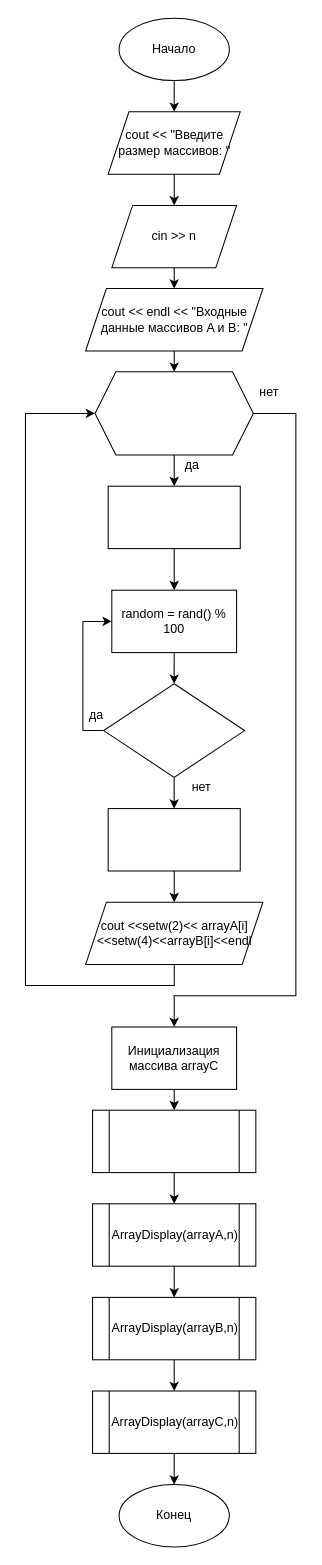
This 322x1565 diagram has some shape labels left out. The shapes that lost their labels are listed below. From the top down, each one's centre as x and y in pixels, then its label:
At point 173,413: "i = 0; i < n; i++".
At point 173,517: "arrayA[i] = rand() % 100".
At point 174,730: "!checkValue(arrayB, 100, random)".
At point 173,839: "arrayB[i] = random".
At point 174,1141: "BubbleSort(arrayC,n)".
